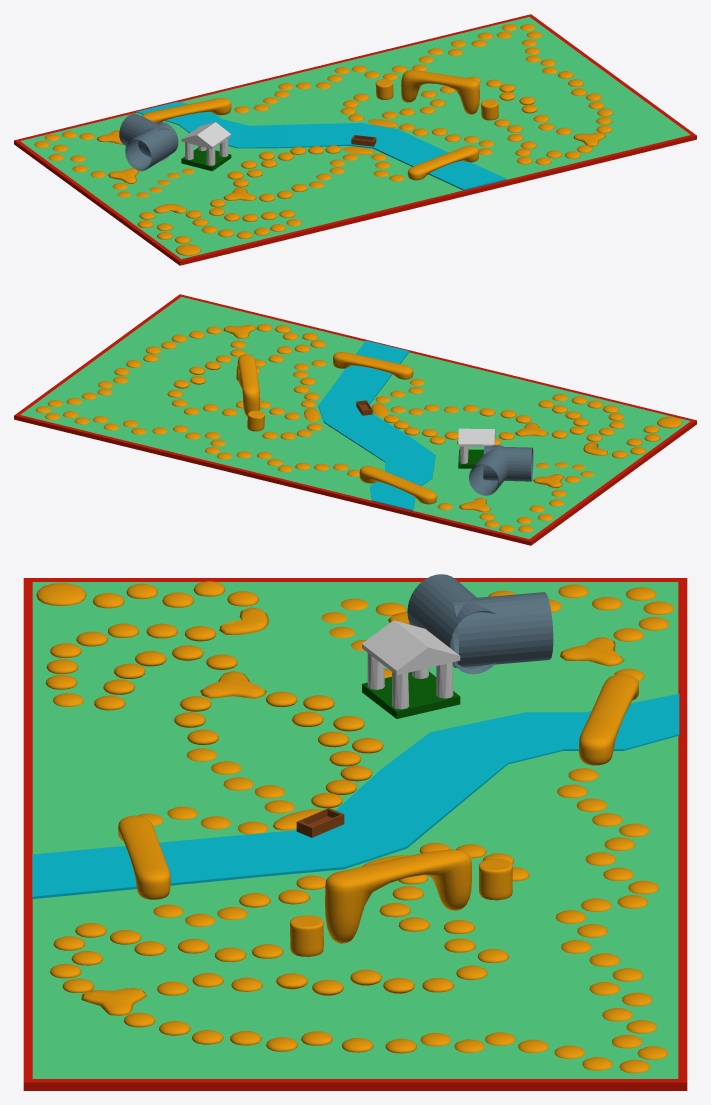
The model's file is filed.fbx.
The picture shows the model from 3 angles, top to bottom: view 1: azimuth 30°, elevation 25°; view 2: azimuth 150°, elevation 25°; view 3: azimuth 270°, elevation 25°; orthographic projection. The views are drawn at different scales.
Visible parts, largest first — view 1: Cube, Fluss, Tunnel, Cube.153, Cube.046, Cube.128, Cube.064; view 2: Cube, Fluss, Tunnel, Cube.153, Cube.128, Cube.064, Cube.046; view 3: Cube, Fluss, Tunnel, Cube.153, Cube.046, Cube.128, Cube.064, Cube.065, Cube.063, Cube.099, Cube.023, Cube.131 (+3 smaller).
Part boxes in pixels (x1,y1,x2,y2): Cube: (14,14,696,265); Fluss: (136,101,506,190); Tunnel: (119,113,178,171); Cube.153: (181,122,231,171); Cube.046: (401,70,479,114); Cube.128: (142,98,231,123); Cube.064: (407,145,478,180); Cube: (14,294,696,545); Fluss: (318,340,435,510); Tunnel: (469,445,533,495); Cube.153: (458,428,495,468); Cube.128: (359,466,437,504); Cube.064: (333,352,413,379); Cube.046: (237,354,260,416); Cube: (23,578,687,1090); Fluss: (32,694,679,898); Tunnel: (407,574,553,674); Cube.153: (362,620,460,718); Cube.046: (325,849,471,943); Cube.128: (579,673,638,765); Cube.064: (118,815,170,899); Cube.065: (290,915,323,956); Cube.063: (479,859,512,900); Cube.099: (81,988,147,1015); Cube.023: (200,671,266,698); Cube.131: (560,637,624,666).
Size of the model in its own units: 13500 by 928 by 7500.
